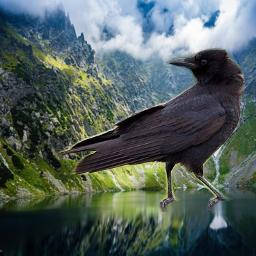Crow: (56, 48, 247, 212)
